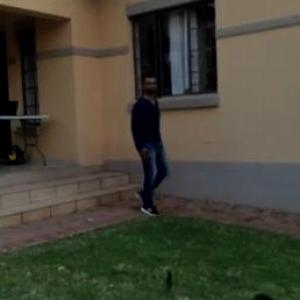follow: (140, 80, 168, 184)
